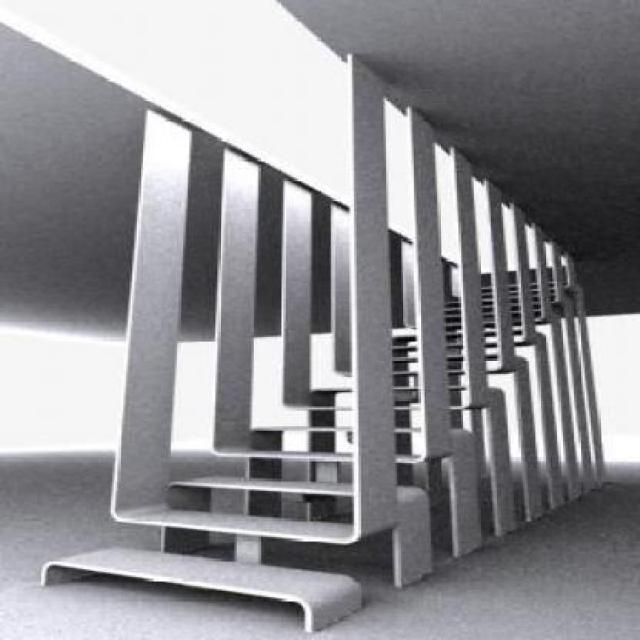stair: (31, 256, 632, 629)
